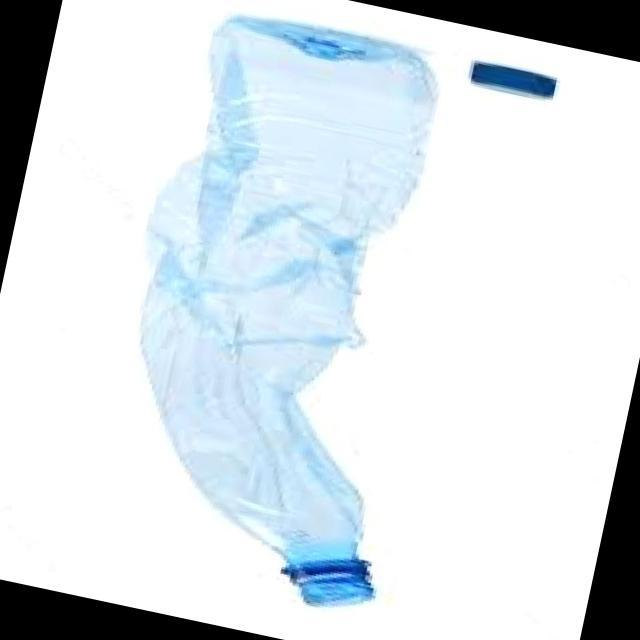defected: (66, 0, 559, 640)
